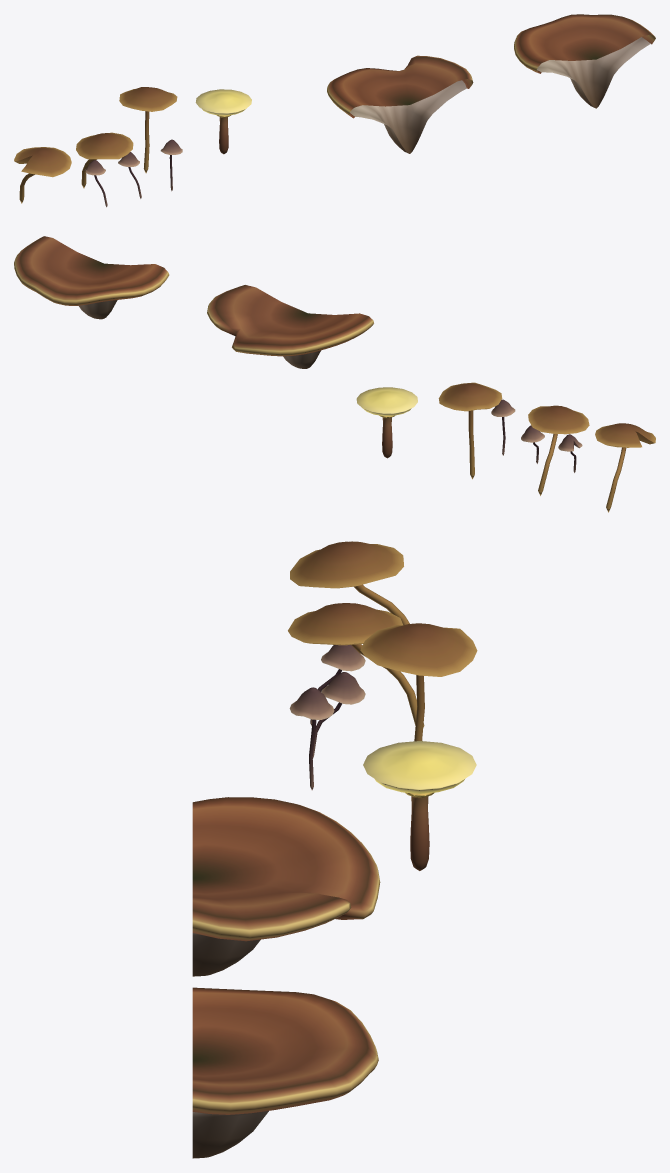
File: Mushrooms.fbx
3 views of the same model, one above another, from view 1: azimuth 30°, elevation 25°; view 2: azimuth 150°, elevation 25°; view 3: azimuth 270°, elevation 25° (orthographic). The views are drawn at different scales.
Visible parts, largest first — view 1: Mush_tree_a_LOD0, Mush_tree_b_LOD0, yellowmush_base, paleshroom_bentcut, paleshroom_bent, paleshroom_straight, darkshroom_straight, darkshroom_bentcut, darkshroom_bent; view 2: Mush_tree_b_LOD0, Mush_tree_a_LOD0, yellowmush_base, paleshroom_straight, paleshroom_bent, paleshroom_bentcut; view 3: Mush_tree_b_LOD0, Mush_tree_a_LOD0, yellowmush_base, paleshroom_straight, paleshroom_bentcut, paleshroom_bent, darkshroom_straight, darkshroom_bent, darkshroom_bentcut.
Part boxes in pixels (left/top/right/bottom): Mush_tree_a_LOD0: left=514, top=14, right=655, bottom=108; Mush_tree_b_LOD0: left=327, top=55, right=473, bottom=153; yellowmush_base: left=195, top=89, right=251, bottom=154; paleshroom_bentcut: left=14, top=147, right=71, bottom=203; paleshroom_bent: left=76, top=132, right=133, bottom=188; paleshroom_straight: left=119, top=87, right=177, bottom=173; darkshroom_straight: left=160, top=139, right=182, bottom=191; darkshroom_bentcut: left=84, top=160, right=107, bottom=207; darkshroom_bent: left=118, top=152, right=141, bottom=198; Mush_tree_b_LOD0: left=207, top=285, right=373, bottom=368; Mush_tree_a_LOD0: left=14, top=236, right=169, bottom=319; yellowmush_base: left=356, top=387, right=417, bottom=458; paleshroom_straight: left=438, top=382, right=502, bottom=479; paleshroom_bent: left=528, top=405, right=589, bottom=495; paleshroom_bentcut: left=595, top=423, right=655, bottom=512; Mush_tree_b_LOD0: left=192, top=797, right=380, bottom=976; Mush_tree_a_LOD0: left=192, top=987, right=378, bottom=1158; yellowmush_base: left=363, top=741, right=476, bottom=870; paleshroom_straight: left=360, top=623, right=477, bottom=741; paleshroom_bentcut: left=290, top=541, right=409, bottom=625; paleshroom_bent: left=288, top=603, right=424, bottom=727; darkshroom_straight: left=289, top=687, right=334, bottom=790; darkshroom_bent: left=312, top=672, right=365, bottom=758; darkshroom_bentcut: left=310, top=645, right=365, bottom=726.
Size of what is drawn, in the model's own units: 48.38 by 6.52 by 9.93.
Materials: 1 (1 with a texture image).
